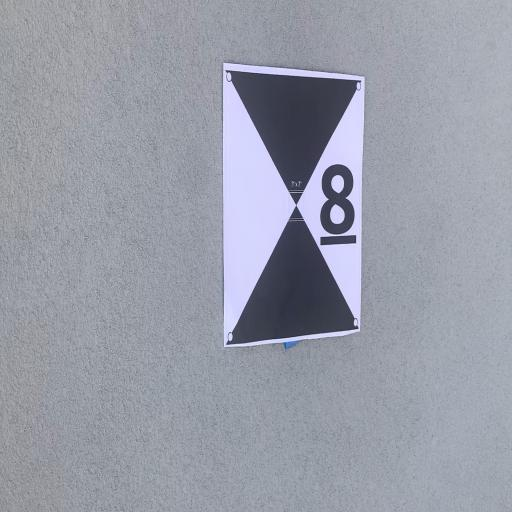target8: (222, 64, 365, 347)
